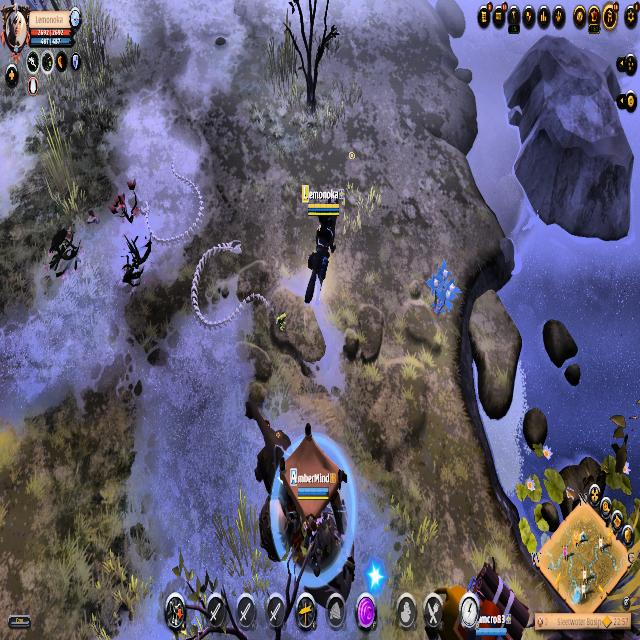fiber tier 4: (426, 259, 460, 318)
